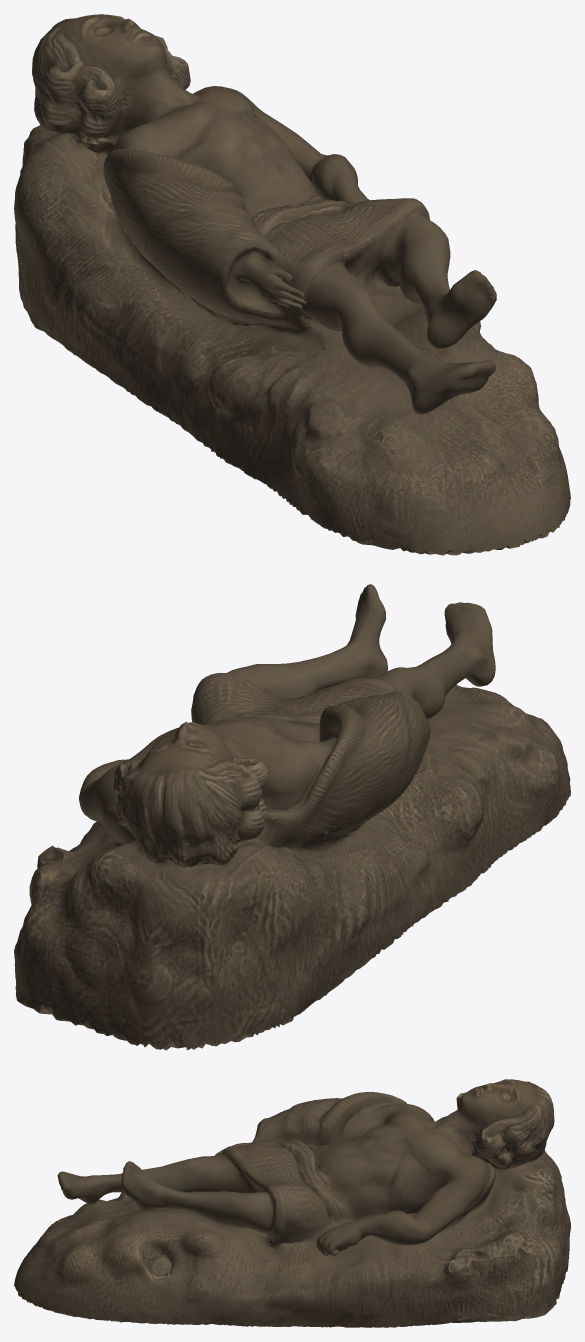
Rendered from aabel.glb.
3 renders of one model, top to bottom at view 1: azimuth 30°, elevation 25°; view 2: azimuth 150°, elevation 25°; view 3: azimuth 270°, elevation 25°, orthographic. The views are drawn at different scales.
Visible parts, largest first — view 1: Mesh; view 2: Mesh; view 3: Mesh.
Boxes of the visible parts, left/top/right/bottom form: Mesh: left=14, top=14, right=570, bottom=555; Mesh: left=14, top=584, right=570, bottom=1050; Mesh: left=14, top=1079, right=570, bottom=1327.
Bounding box in the file's own units: 0.8227 × 0.7532 × 2.
Materials: 1 (1 with a texture image).
